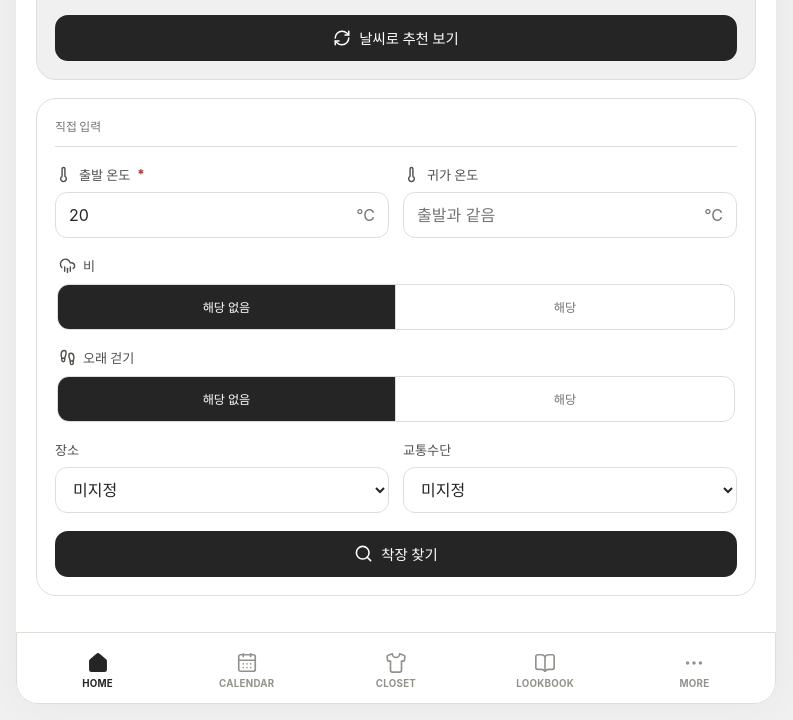
Test: HomePage recommendation pagination › limits recommendations to the shared season scope
(page scrolled)
Step 1. Click the button "착장 찾기" → (396, 554), box [55,531,737,577]
(page scrolled)
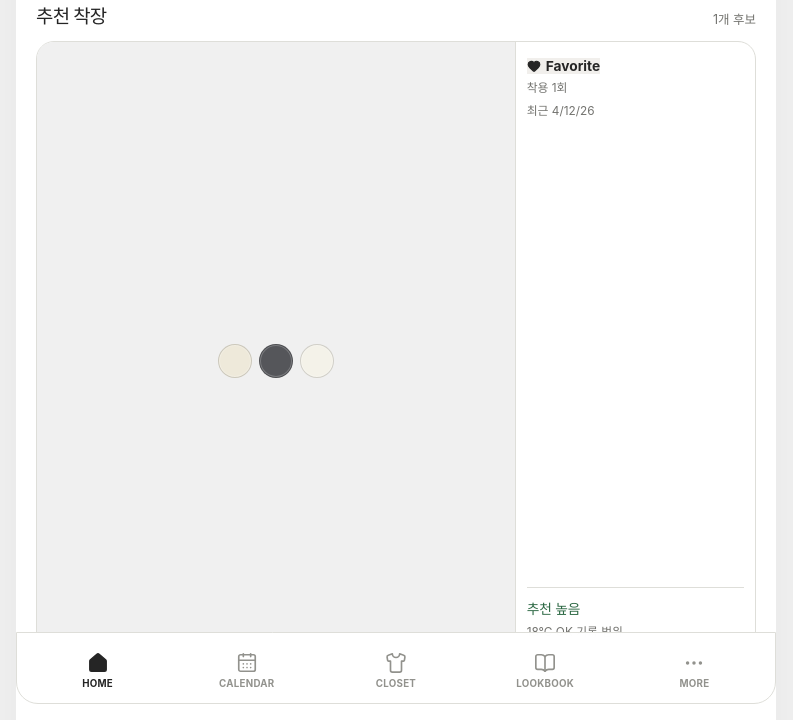
Now the link with aria-label "Summer recommendation 착장 상세 보기" is shown
